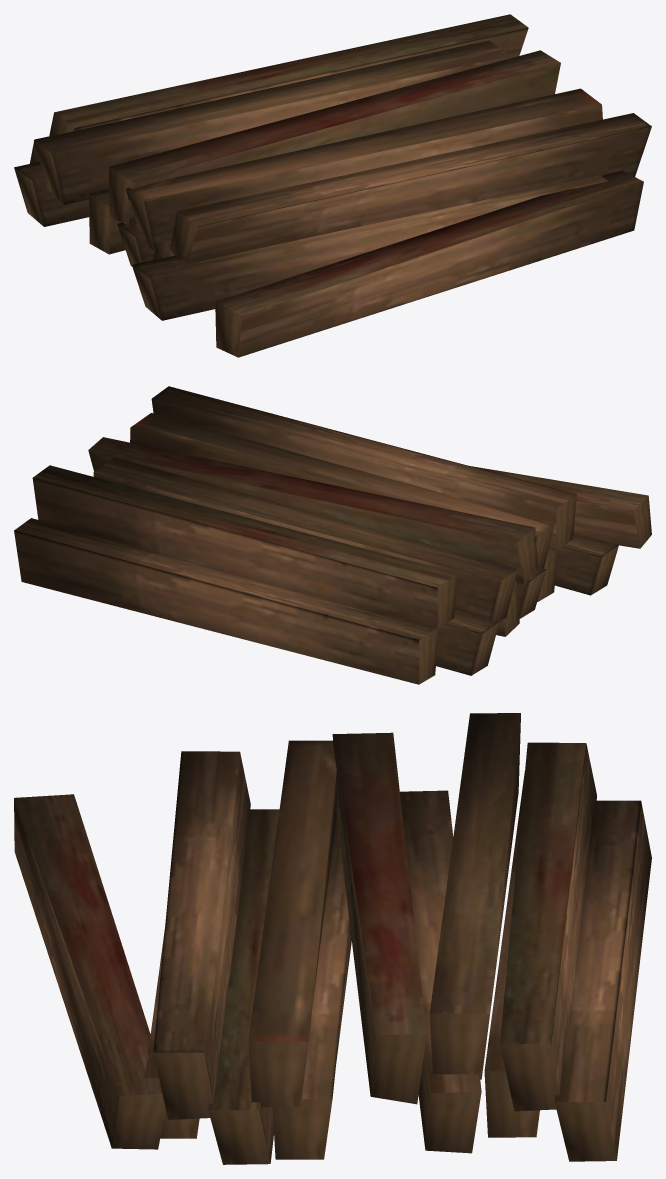
Rendered from S_Build_Forest029.FBX.
3 views of the same model, one above another, from view 1: azimuth 30°, elevation 25°; view 2: azimuth 150°, elevation 25°; view 3: azimuth 270°, elevation 25° (orthographic). The views are drawn at different scales.
Visible parts, largest first — view 1: S_Build_Forest029; view 2: S_Build_Forest029; view 3: S_Build_Forest029.
Boxes of the visible parts, bbox=[...] form: S_Build_Forest029: bbox=[14, 14, 651, 357]; S_Build_Forest029: bbox=[14, 386, 651, 684]; S_Build_Forest029: bbox=[14, 713, 651, 1164].
Size of the model in its own units: 338 by 274 by 62.85.
